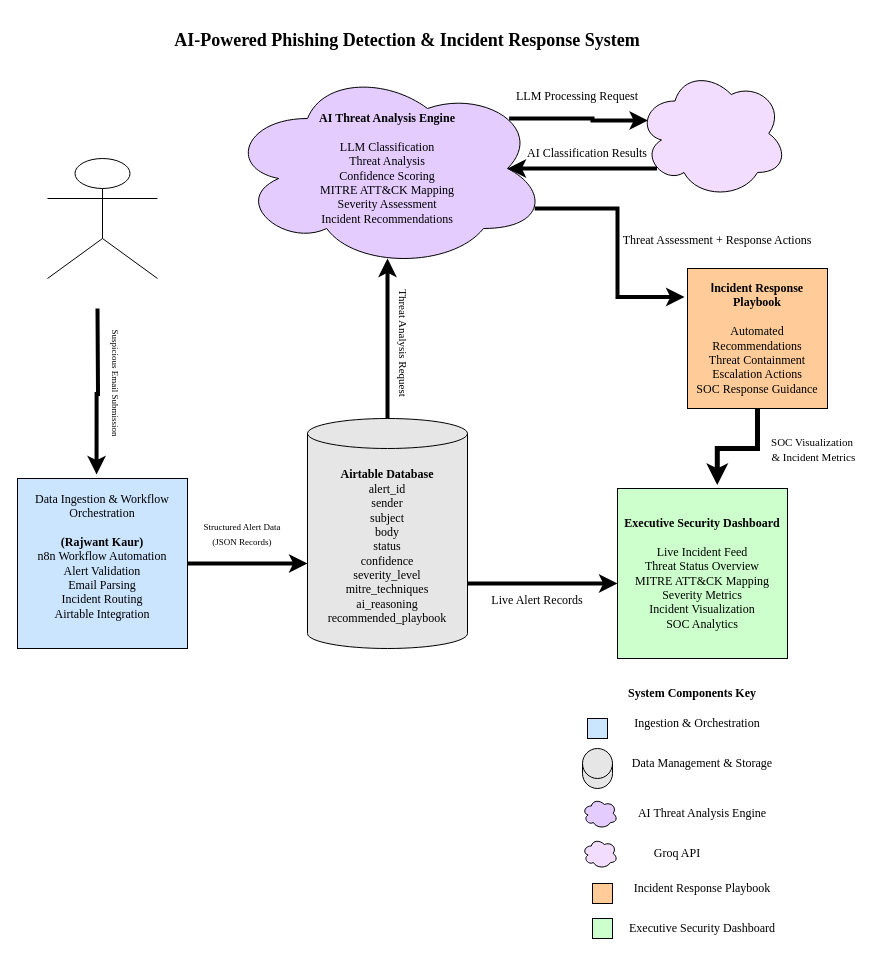
Some shapes in this 885 by 960 pixel diagram are drawn without their labels. The shapes that lost their labels are listed below. From the top down, each one's centre as x and y in pixels, then its label:
the point at 712,133: Groq API (LLM Model)
the point at 102,218: USER
